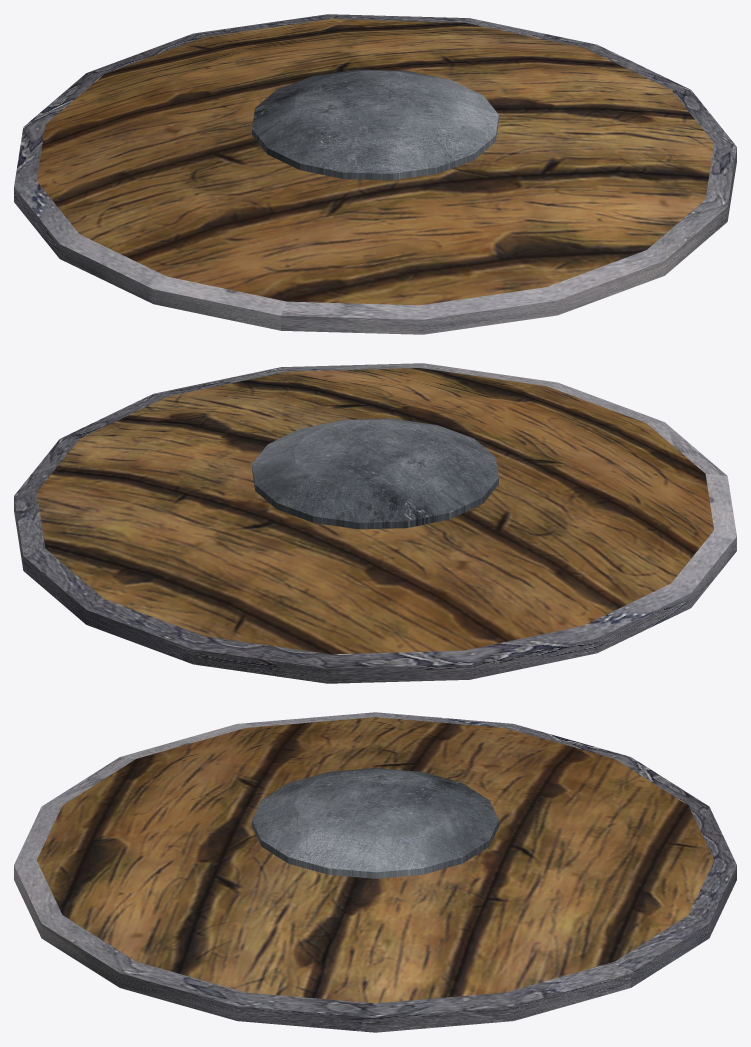
File: shield.FBX
3 renders of one model, top to bottom at view 1: azimuth 30°, elevation 25°; view 2: azimuth 150°, elevation 25°; view 3: azimuth 270°, elevation 25°, orthographic.
Visible parts, largest first — view 1: shield; view 2: shield; view 3: shield.
Boxes of the visible parts, x1,y1,x2,y2 form: shield: [14, 14, 736, 334]; shield: [14, 363, 736, 683]; shield: [14, 712, 736, 1032].
Bounding box in the file's own units: 44800 × 5717 × 44800.
1 material, 1 textured.
